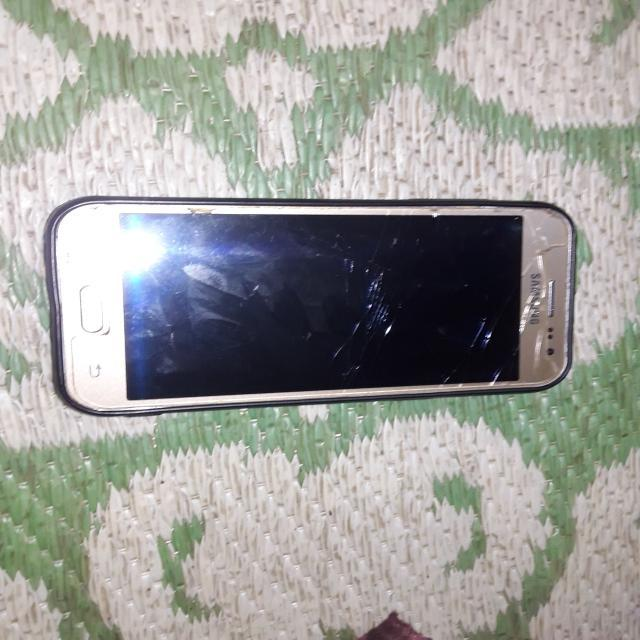scratch: (314, 262, 414, 385)
screen crack: (495, 200, 587, 394), (160, 196, 239, 235)
